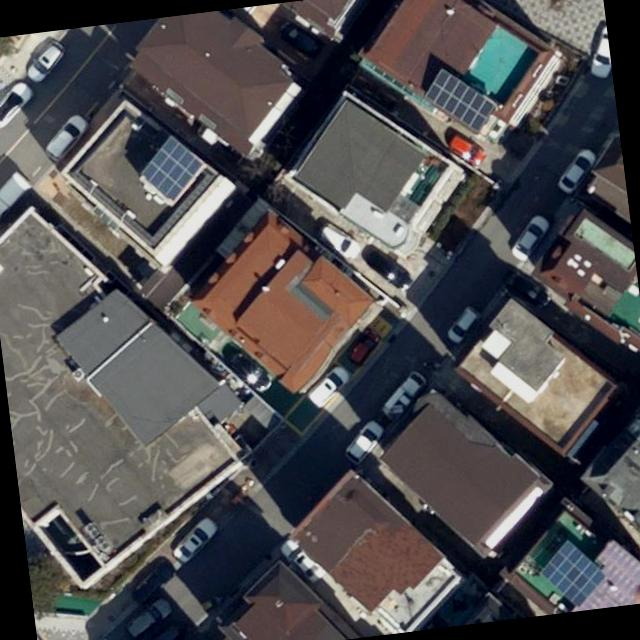solar: (418, 59, 501, 140), (534, 532, 612, 613), (132, 130, 212, 208)
